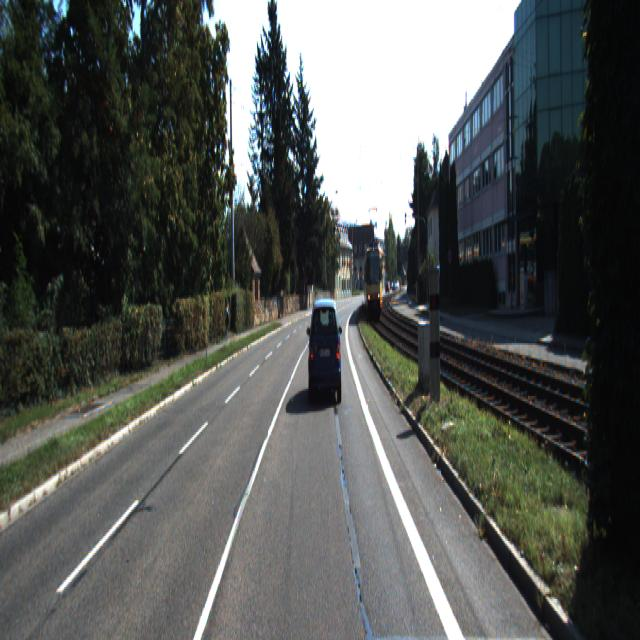Car: (308, 298, 342, 409)
DontCare: (384, 263, 406, 299), (221, 292, 233, 352)
Tram: (364, 243, 382, 320)
